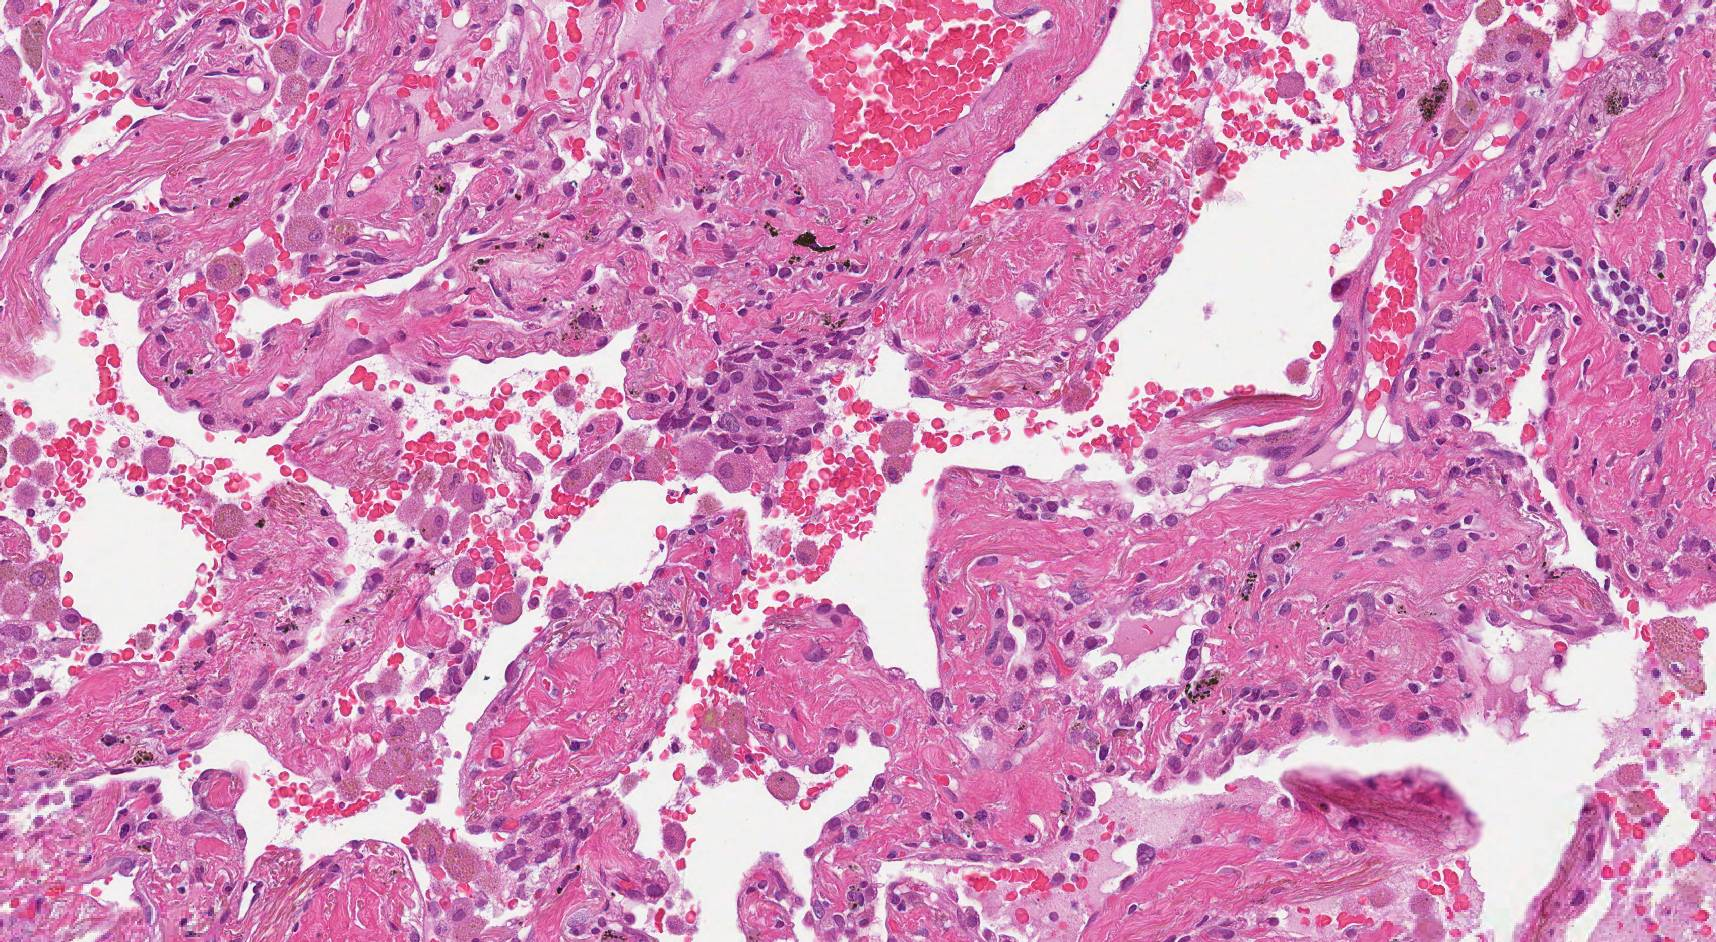stas: (656, 340, 839, 460)
